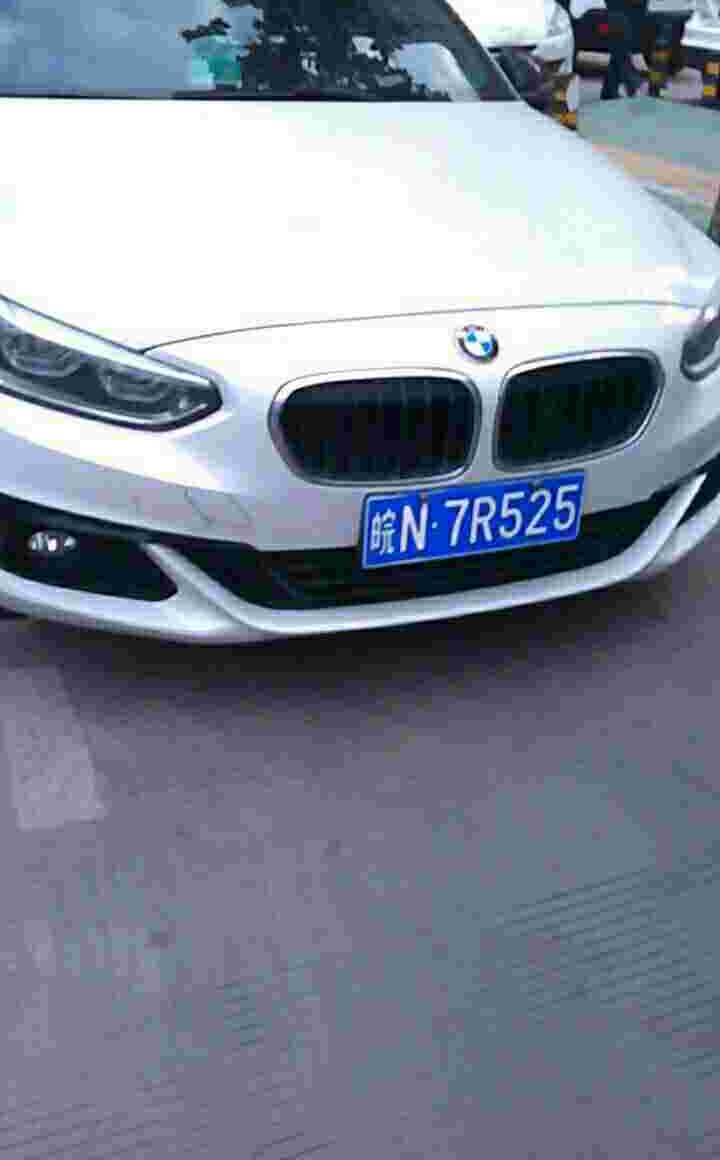license_plate: (366, 474, 582, 570)
